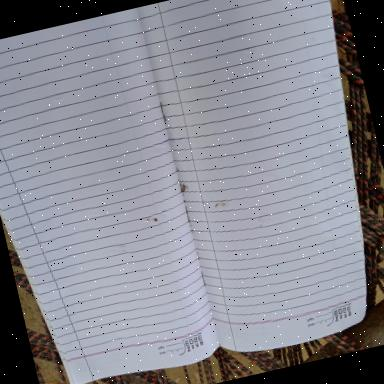pbw: (180, 184, 186, 193)
